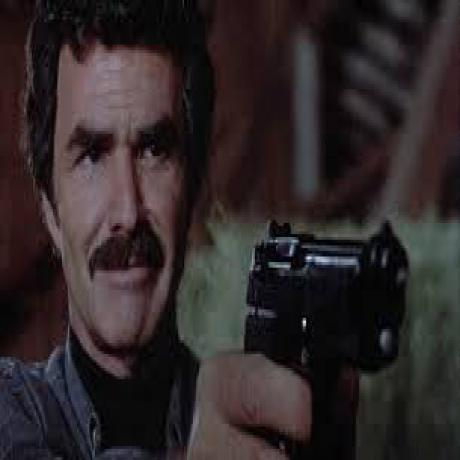Guns: (233, 212, 417, 392)
